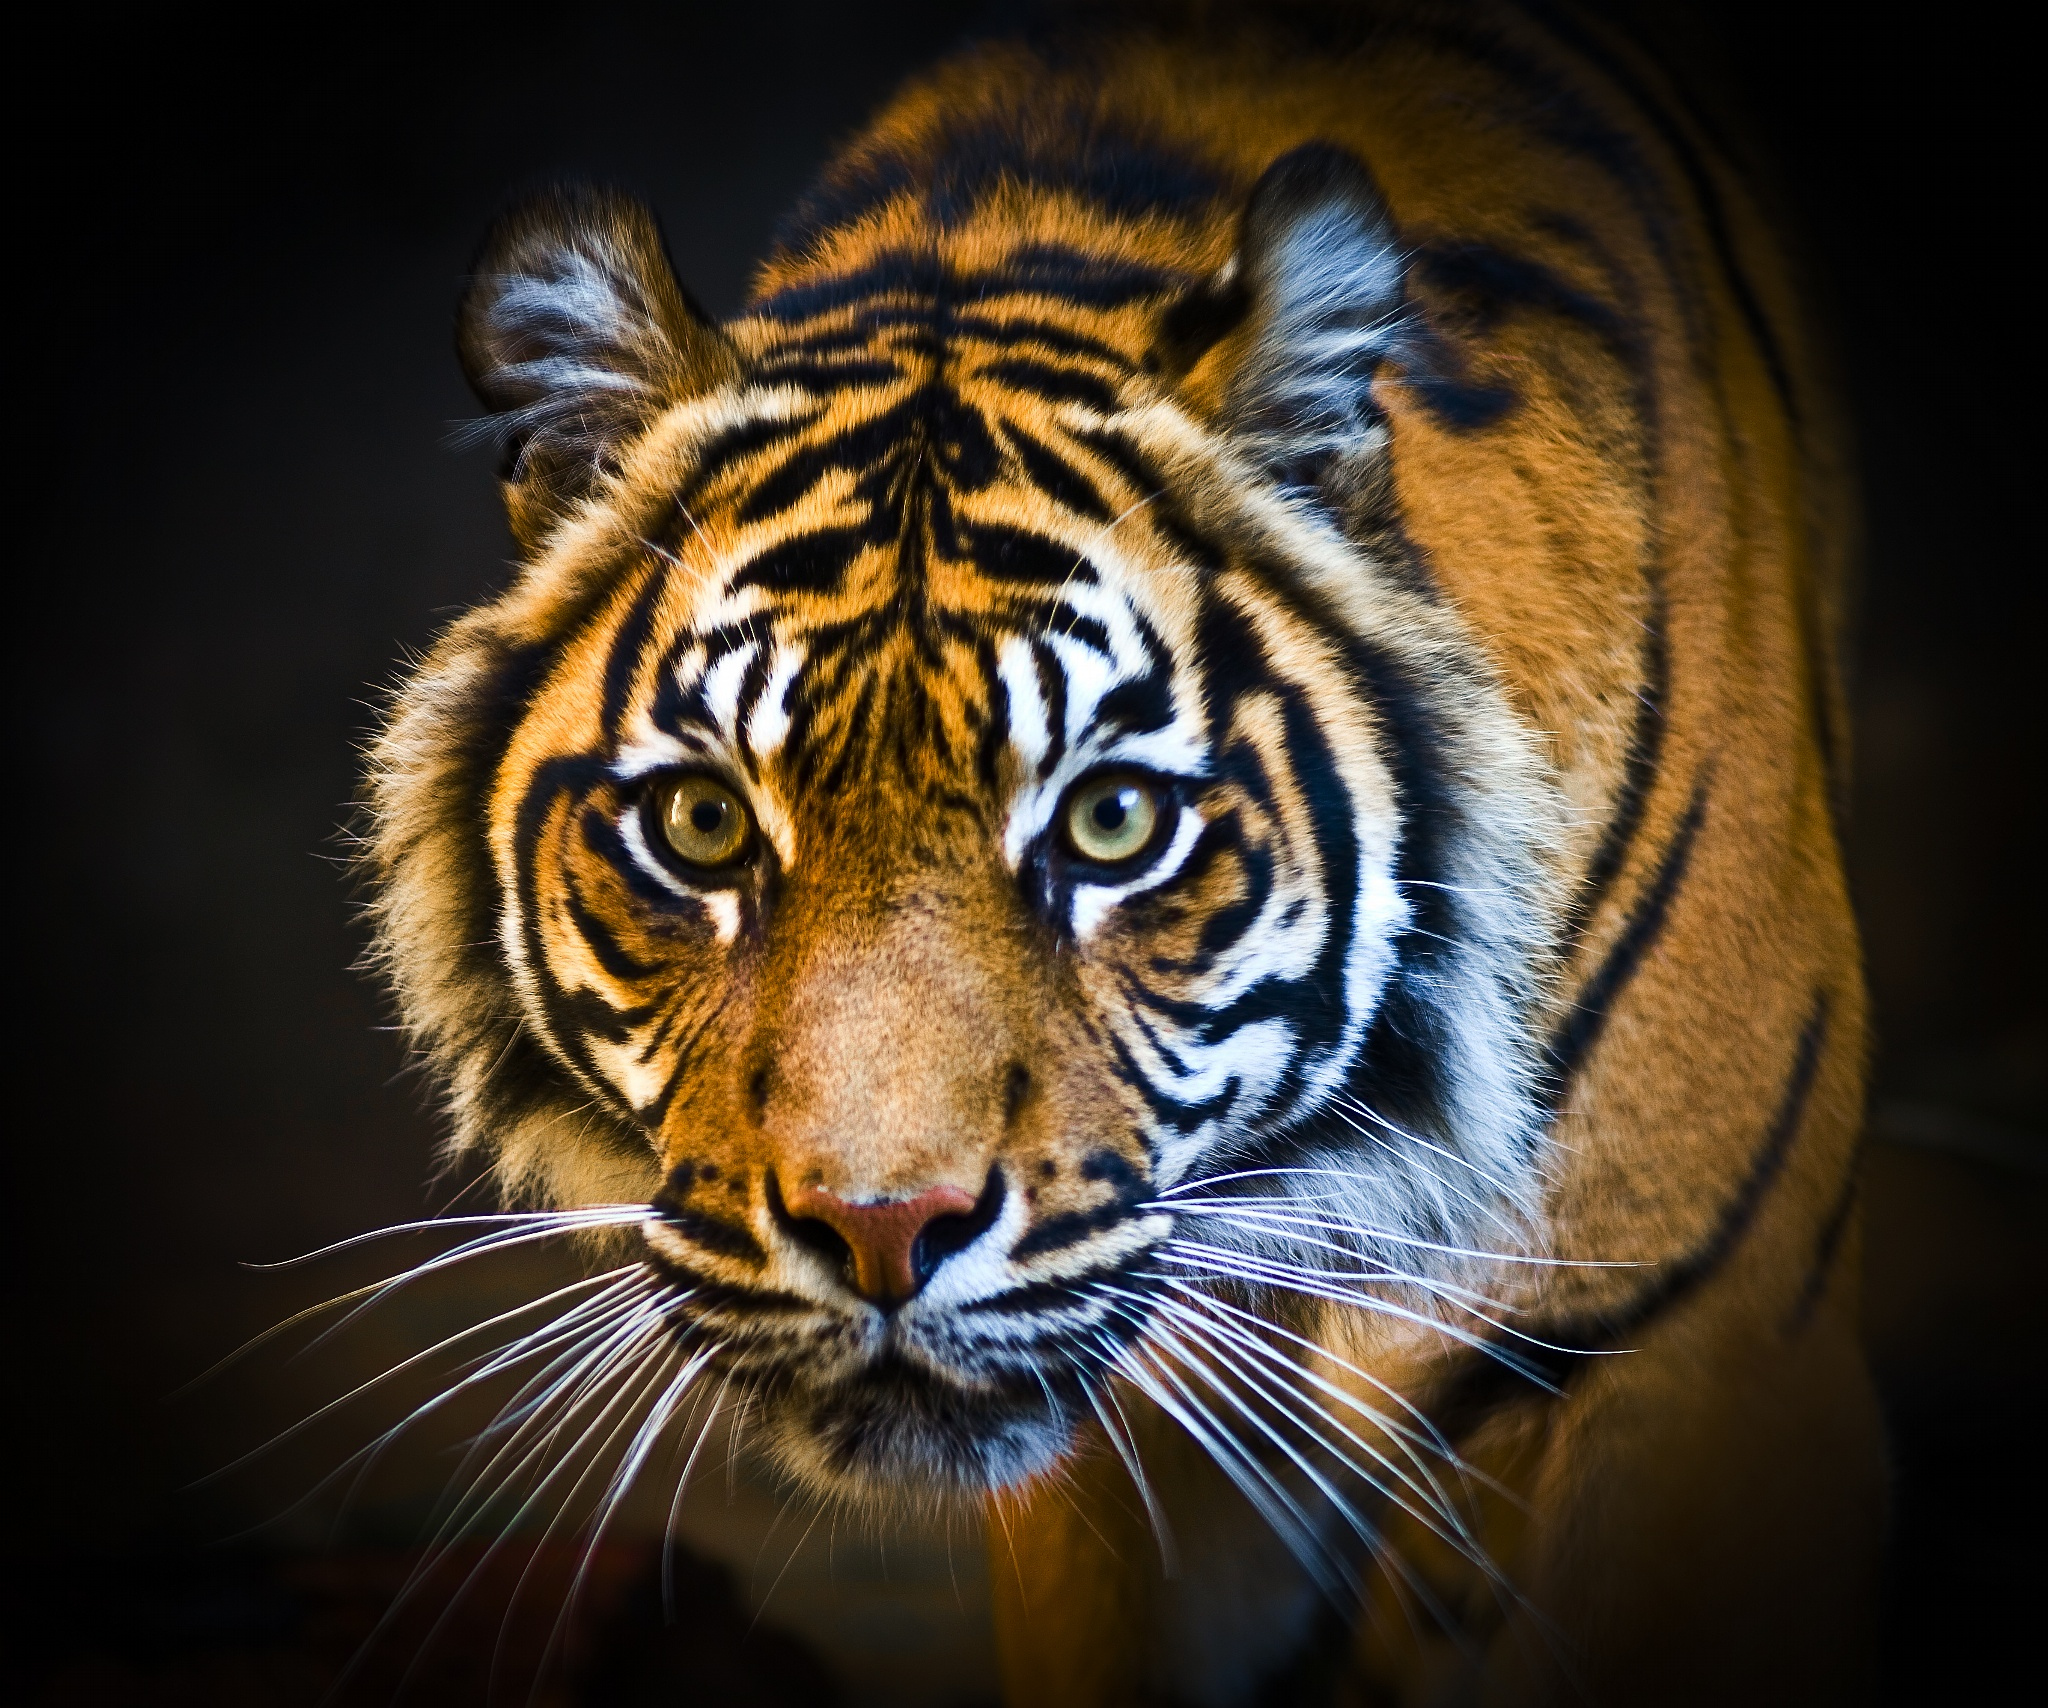tiger: (390, 124, 1893, 1502)
